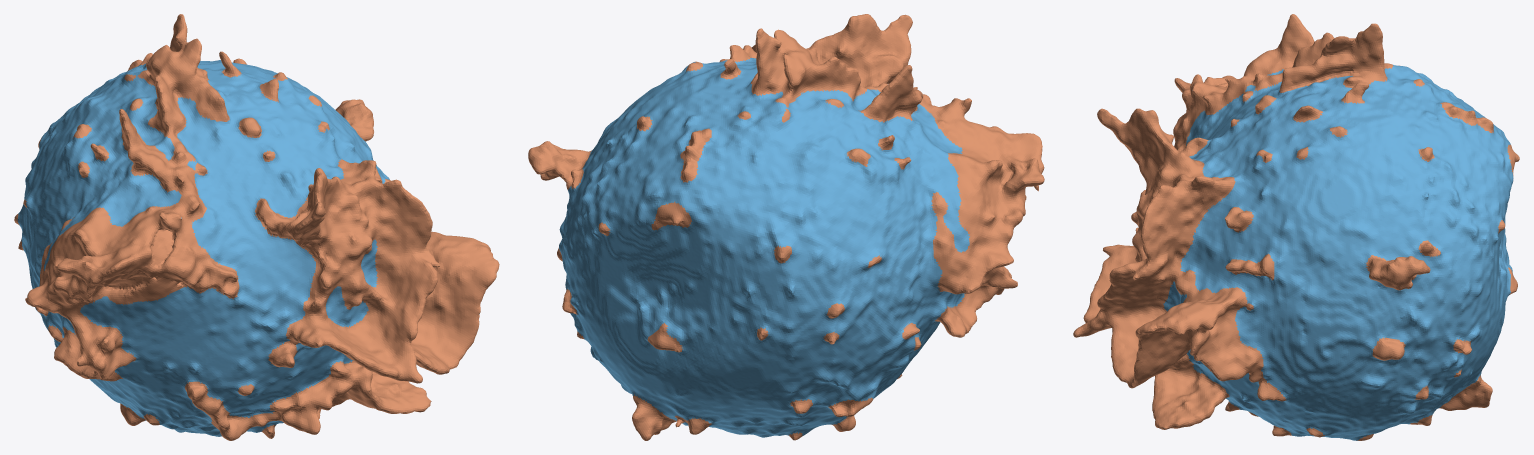
3 renders of one model, left to right at view 1: azimuth 30°, elevation 25°; view 2: azimuth 150°, elevation 25°; view 3: azimuth 270°, elevation 25°, orthographic. The views are drawn at different scales.
Size of the model in its own units: 180 by 169 by 174.
